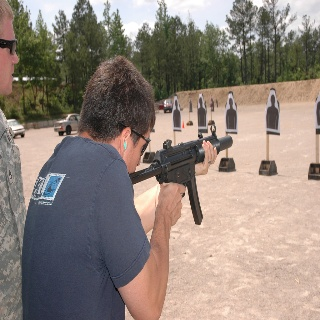rifle: (126, 123, 235, 226)
